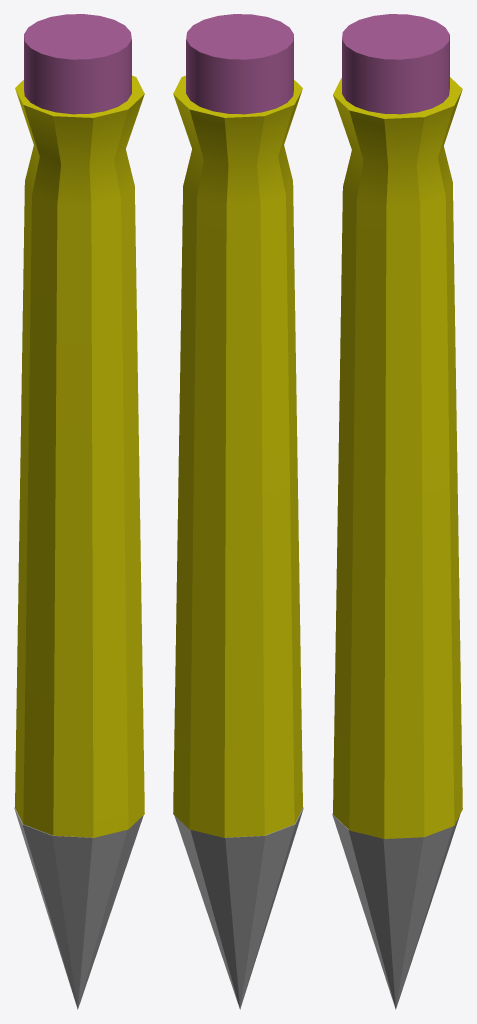
Rendered from pencilsketch.fbx.
3 views of the same model, side by side, from view 1: azimuth 30°, elevation 25°; view 2: azimuth 150°, elevation 25°; view 3: azimuth 330°, elevation 25° (orthographic).
Visible parts, largest first — view 1: pCylinder1, pCone1, pCylinder2; view 2: pCylinder1, pCone1, pCylinder2; view 3: pCylinder1, pCone1, pCylinder2.
Part boxes in pixels (x1=…): pCylinder1: x1=15, y1=75, x2=144, y2=837; pCone1: x1=14, y1=807, x2=143, y2=1009; pCylinder2: x1=24, y1=14, x2=131, y2=114; pCylinder1: x1=173, y1=75, x2=302, y2=837; pCone1: x1=174, y1=807, x2=303, y2=1009; pCylinder2: x1=186, y1=14, x2=293, y2=114; pCylinder1: x1=333, y1=77, x2=462, y2=838; pCone1: x1=332, y1=813, x2=460, y2=1009; pCylinder2: x1=342, y1=14, x2=449, y2=114.
Bounding box in the file's own units: 2.01 × 16.44 × 1.9.
